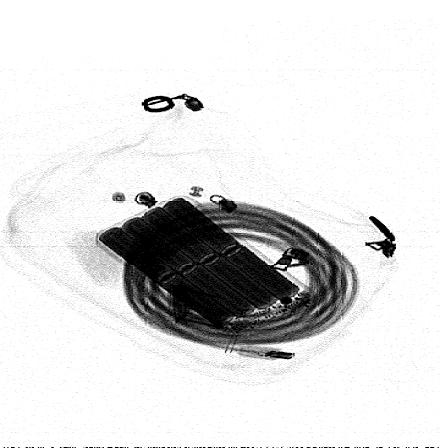Powerbank: (93, 194, 315, 340)
